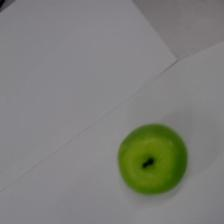green: (118, 123, 188, 195)
